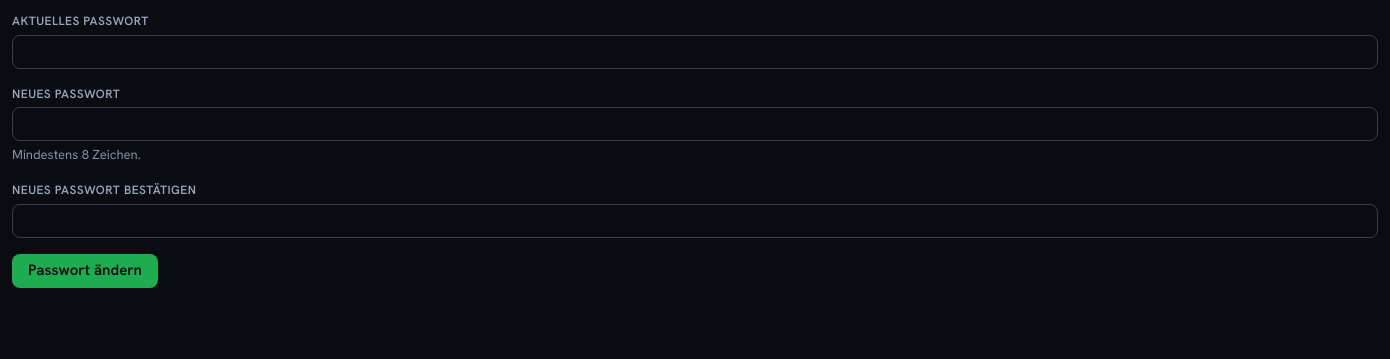
ChangePasswordForm › announces a successful change
Click the button "Passwort ändern": [85, 271] box top-left (12, 254), bottom-right (158, 288)
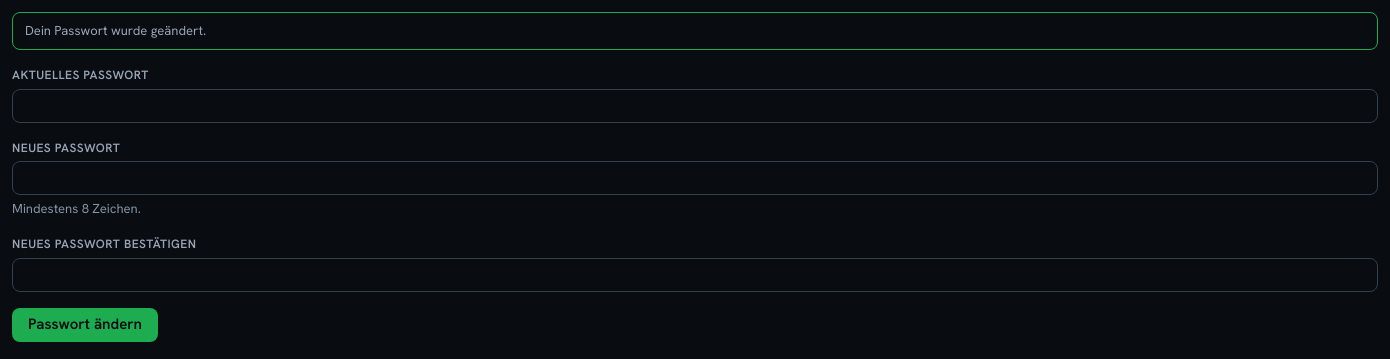
expect the message reads "Dein Passwort wurde geändert.": met, box top-left (25, 22), bottom-right (206, 39)
